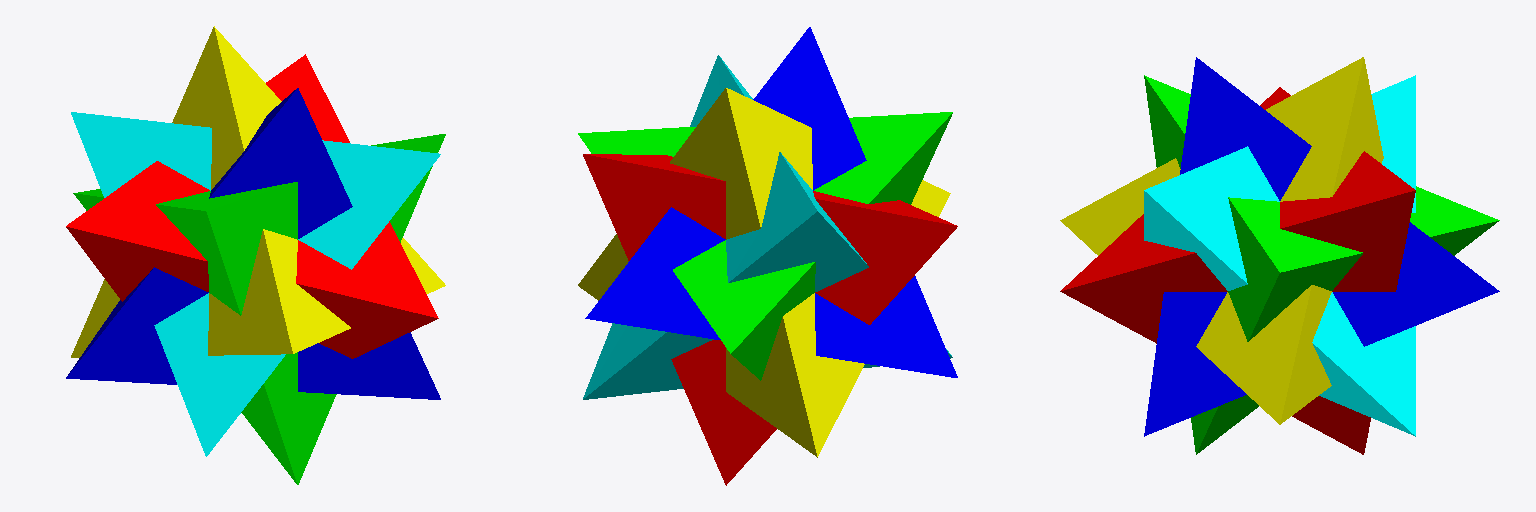
File: 5tetracol.obj
3 views of the same model, side by side, from view 1: azimuth 30°, elevation 25°; view 2: azimuth 150°, elevation 25°; view 3: azimuth 270°, elevation 25° (orthographic).
Parts seen in each view (by area): view 1: 5tetra; view 2: 5tetra; view 3: 5tetra.
Boxes of the visible parts, x1,y1,x2,y2 form: 5tetra: [66, 26, 445, 484]; 5tetra: [578, 27, 957, 485]; 5tetra: [1060, 57, 1499, 454].
Bounding box in the file's own units: 3.24 × 3.24 × 3.24.